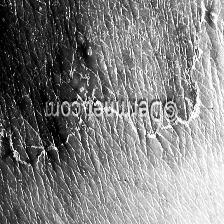Toxin: (0, 120, 72, 171), (182, 0, 224, 87), (68, 32, 93, 92), (180, 96, 202, 130)
